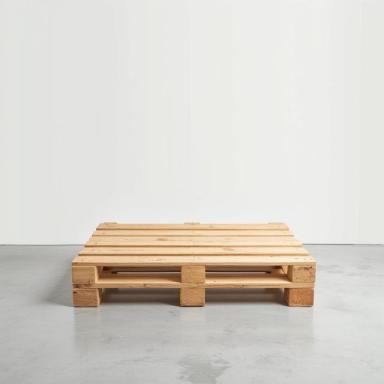pallet: (72, 222, 316, 284), (72, 283, 315, 307)
